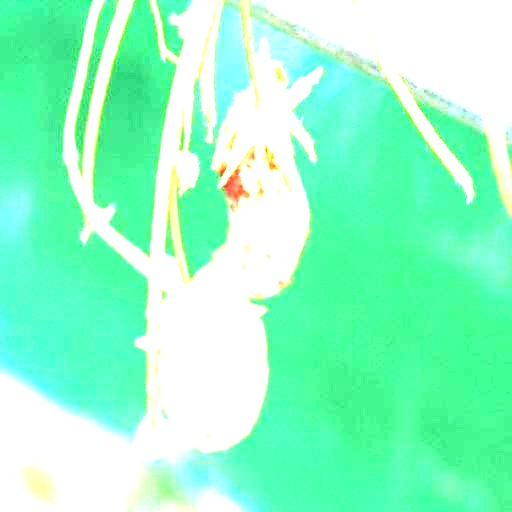Gray Mold: (211, 80, 310, 299)
